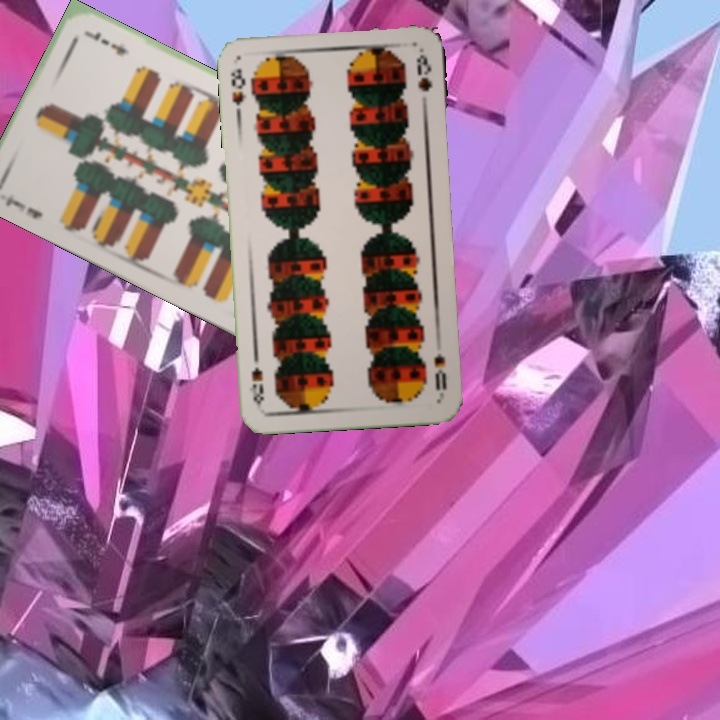E7: (1, 190, 45, 222)
S8: (226, 64, 249, 119), (430, 350, 449, 398)
